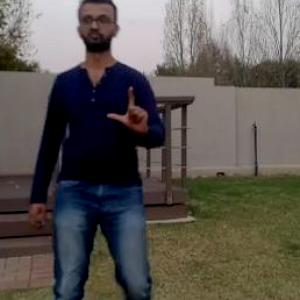land_hand: (100, 81, 155, 143)
